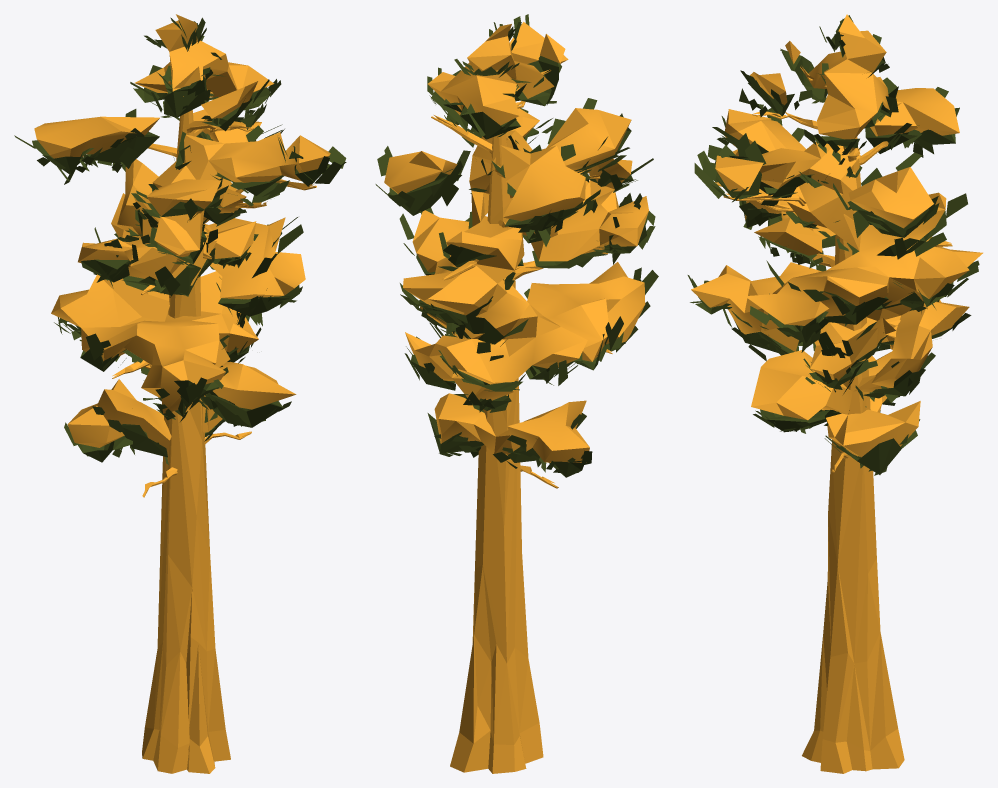
File: SM_Tree_Sequoia_Young_A_Snow.fbx
3 renders of one model, left to right at view 1: azimuth 30°, elevation 25°; view 2: azimuth 150°, elevation 25°; view 3: azimuth 270°, elevation 25°, orthographic.
Visible parts, largest first — view 1: tree-sequoia-young-a-snow; view 2: tree-sequoia-young-a-snow; view 3: tree-sequoia-young-a-snow.
Part boxes in pixels (x1,y1,x2,y2): tree-sequoia-young-a-snow: (14,14,346,773); tree-sequoia-young-a-snow: (375,14,658,773); tree-sequoia-young-a-snow: (687,14,982,773).
Bounding box in the file's own units: 3.78 × 11.32 × 4.12.
